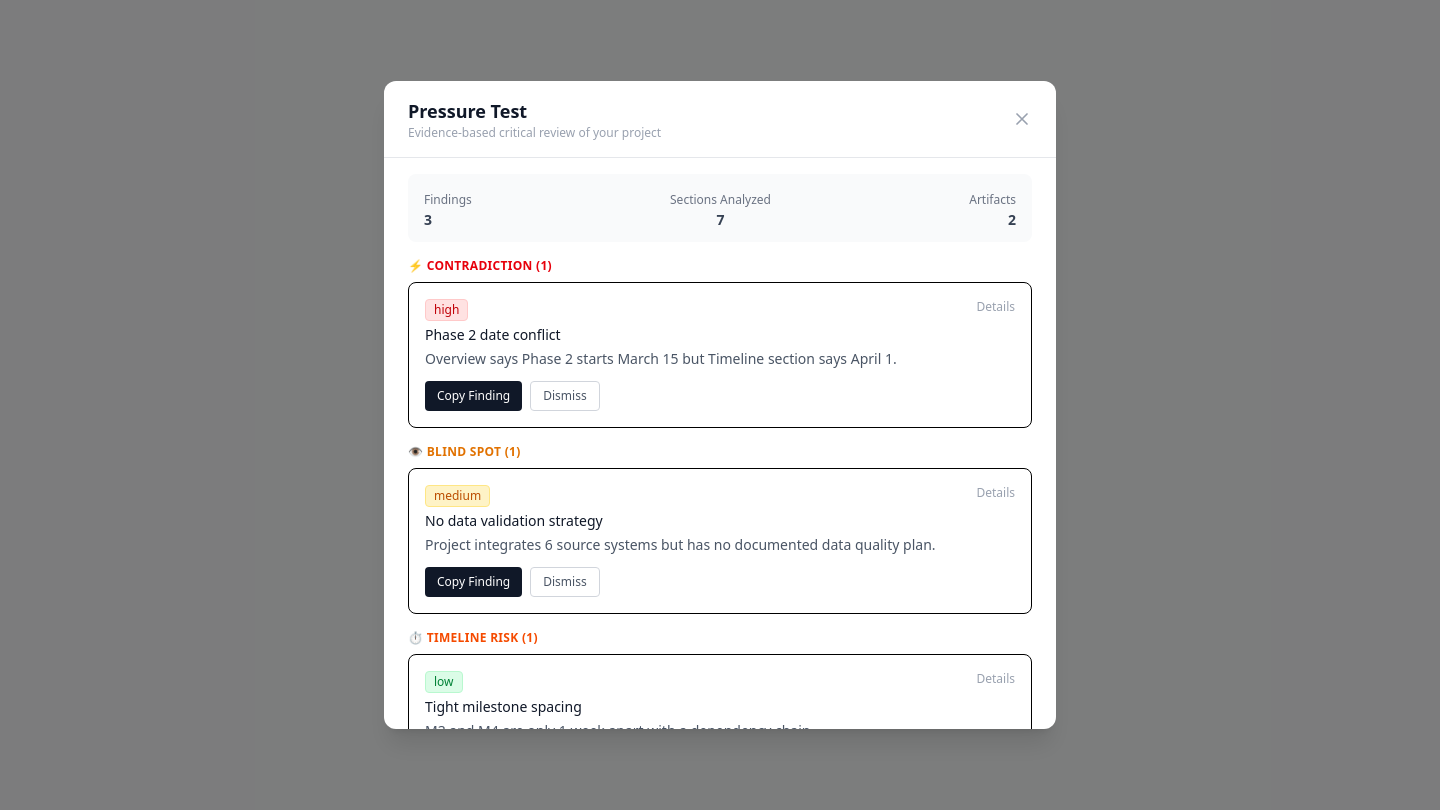
Test: ReviewPanel › expands finding details on click
Click the button "Details" in the row of "high": (996, 307) 976,299 -> 1015,315
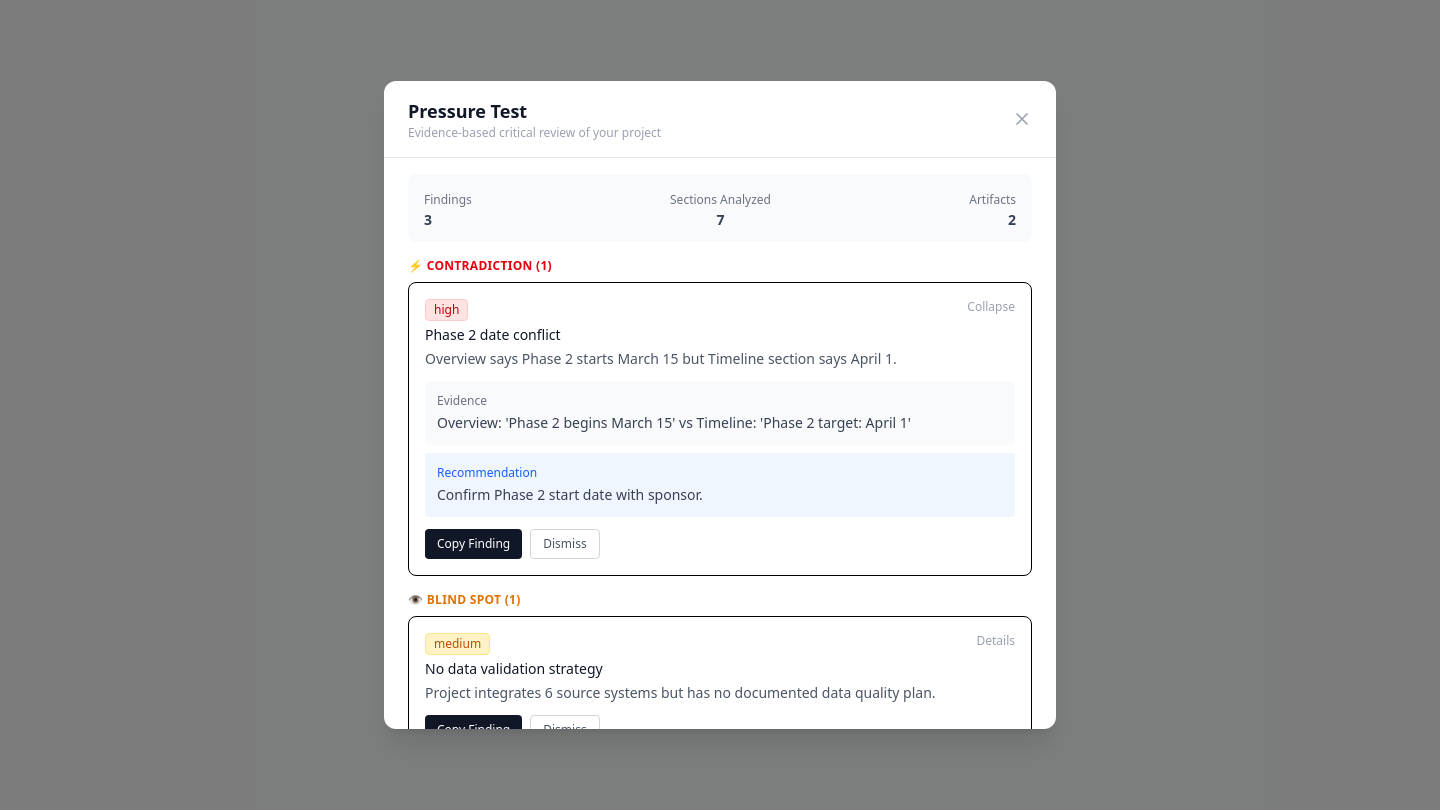
Result: the text "Evidence" is shown at 437,392 -> 487,409
Result: the text "Recommendation" is shown at 437,464 -> 537,481
